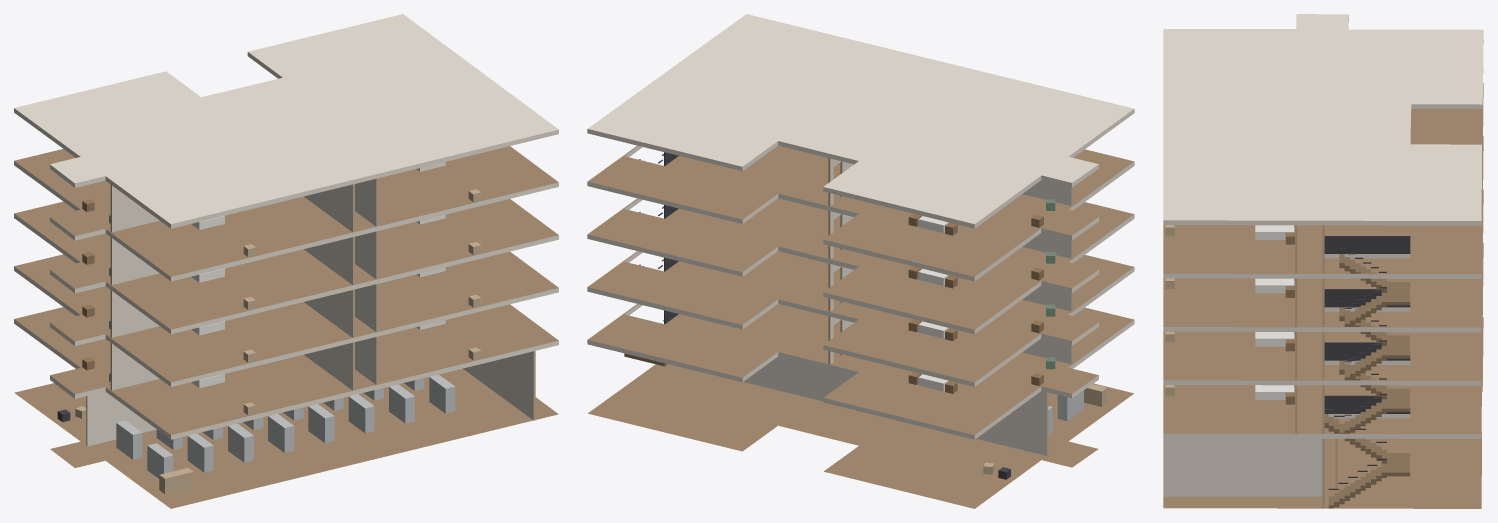
File: interior.glb
The picture shows the model from 3 angles, left to right: view 1: azimuth 30°, elevation 25°; view 2: azimuth 150°, elevation 25°; view 3: azimuth 270°, elevation 25°; orthographic projection.
Visible parts, largest first — view 1: slabs, partitions, coarse-s0, coarse-s2, coarse-s1, coarse-s3, coarse-s4; view 2: slabs, partitions, coarse-s0, coarse-s1, coarse-s2, coarse-s3, coarse-s4, stair; view 3: slabs, stair, partitions, coarse-s3, coarse-s2, coarse-s1, coarse-s4.
Boxes of the visible parts, x1,y1,x2,y2 form: slabs: [14, 14, 558, 508]; partitions: [86, 178, 535, 446]; coarse-s0: [57, 374, 455, 493]; coarse-s2: [82, 267, 481, 362]; coarse-s1: [82, 320, 481, 415]; coarse-s3: [82, 214, 481, 309]; coarse-s4: [82, 162, 481, 256]; slabs: [587, 14, 1134, 508]; partitions: [743, 158, 1072, 455]; coarse-s0: [983, 384, 1107, 479]; coarse-s1: [908, 357, 1055, 393]; coarse-s2: [908, 304, 1055, 340]; coarse-s3: [908, 252, 1055, 288]; coarse-s4: [908, 199, 1055, 235]; stair: [624, 152, 678, 366]; slabs: [1163, 14, 1483, 508]; stair: [1324, 236, 1410, 508]; partitions: [1163, 225, 1337, 508]; coarse-s3: [1165, 278, 1294, 297]; coarse-s2: [1165, 331, 1294, 351]; coarse-s1: [1165, 385, 1294, 404]; coarse-s4: [1165, 225, 1294, 244].
Bounding box in the file's own units: 25.02 × 16.24 × 16.35.
